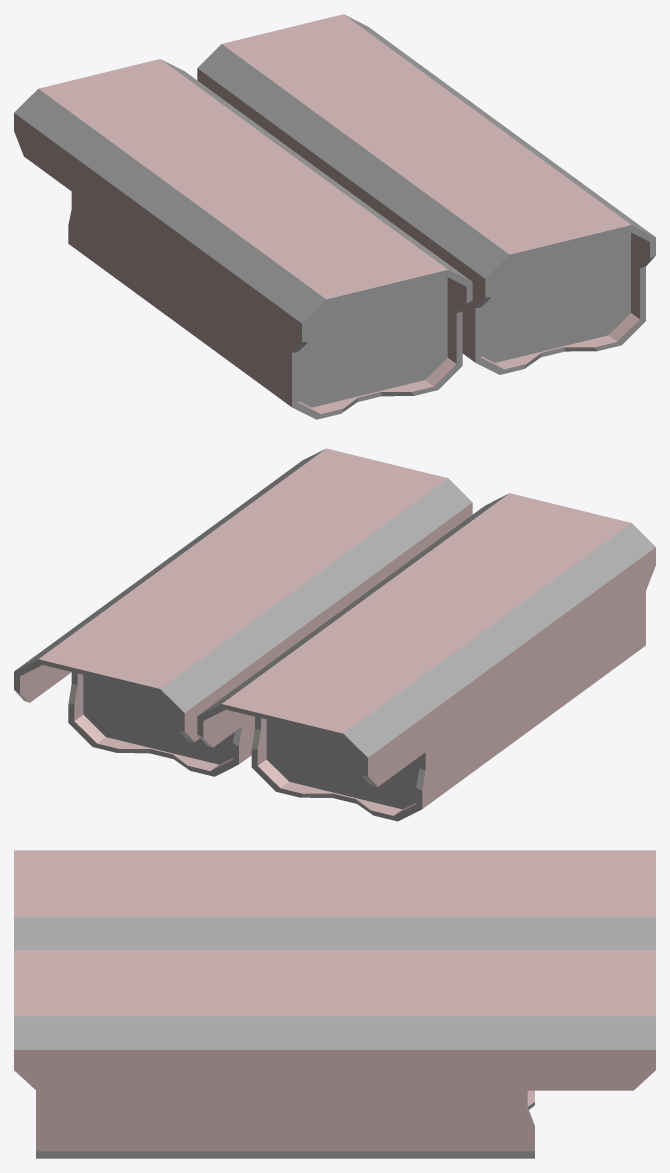
File: SM_MissileLauncher_Top.fbx
The picture shows the model from 3 angles, top to bottom: view 1: azimuth 30°, elevation 25°; view 2: azimuth 150°, elevation 25°; view 3: azimuth 270°, elevation 25°; orthographic projection. The views are drawn at different scales.
Visible parts, largest first — view 1: GEOM_AAGun1; view 2: GEOM_AAGun1; view 3: GEOM_AAGun1.
Boxes of the visible parts, x1=… form: GEOM_AAGun1: x1=14, y1=14, x2=655, y2=419; GEOM_AAGun1: x1=14, y1=448, x2=655, y2=821; GEOM_AAGun1: x1=14, y1=850, x2=655, y2=1158.
Bounding box in the file's own units: 60.1 × 20.99 × 84.7.
